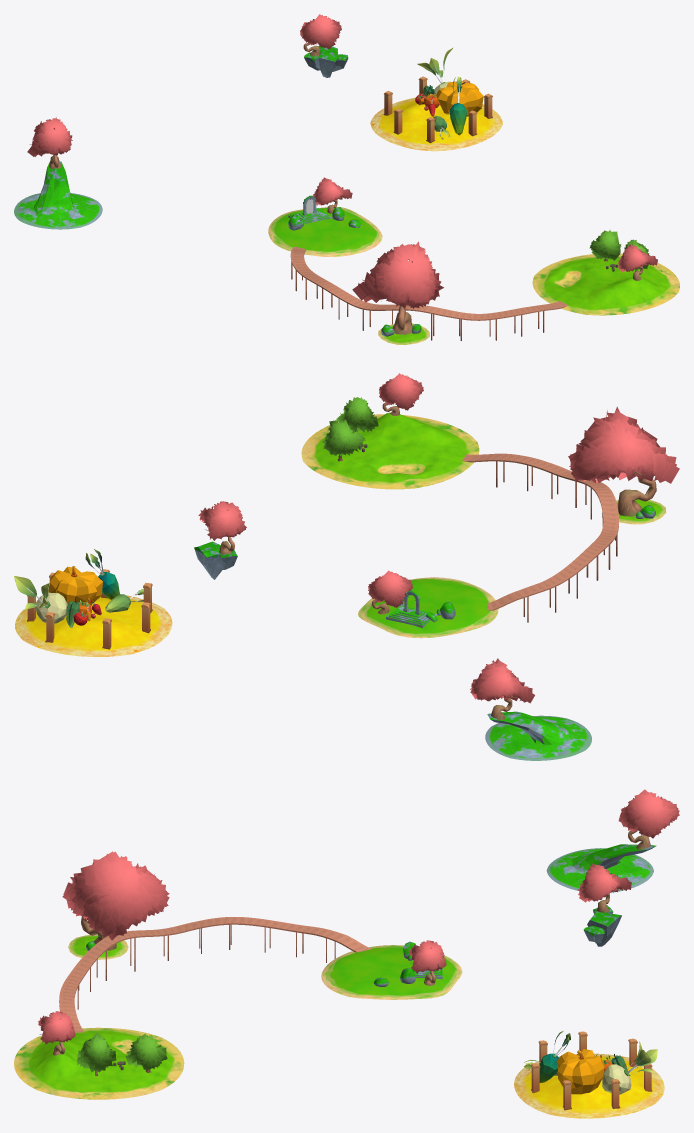
Rendered from game.glb.
3 views of the same model, one above another, from view 1: azimuth 30°, elevation 25°; view 2: azimuth 150°, elevation 25°; view 3: azimuth 270°, elevation 25° (orthographic). The views are drawn at different scales.
Visible parts, largest first — view 1: 小岛2_g, 树叶1_pink_001, 黄萝卜, 小岛3, 小岛_g, 小岛4, 木桥_g, 树叶1_pink_2.001, 树叶1_pink_2, 石头_g, 浮空石, 木桥立柱 (+4 smaller); view 2: 小岛2_g, 黄萝卜, 树叶1_pink_001, 小岛3, 小岛_g, 小岛4, 木桥_g, 树叶1_pink_2.001, 树叶1_pink_2, 石头_g, 树叶1_pink, 树叶1_pink_1 (+5 smaller); view 3: 小岛2_g, 树叶1_pink_001, 黄萝卜, 小岛_g, 小岛3, 木桥_g, 小岛4, 树叶1_pink_2.001, 树叶1_pink_2, 树叶3_green, 树叶2_green, 树叶1_pink_1 (+5 smaller).
Boxes of the visible parts, box(x1,y1,x2,y2) form: 小岛2_g: box(532, 253, 679, 315); 树叶1_pink_001: box(352, 241, 443, 309); 黄萝卜: box(383, 47, 492, 143); 小岛3: box(370, 97, 502, 151); 小岛_g: box(268, 207, 382, 256); 小岛4: box(14, 161, 102, 229); 木桥_g: box(290, 246, 567, 320); 树叶1_pink_2.001: box(27, 117, 72, 156); 树叶1_pink_2: box(300, 14, 341, 49); 石头_g: box(288, 195, 360, 230); 浮空石: box(304, 45, 348, 77); 木桥立柱: box(291, 261, 544, 340); 小岛2_g: box(301, 412, 479, 489); 黄萝卜: box(14, 549, 152, 649); 树叶1_pink_001: box(568, 406, 679, 483); 小岛3: box(15, 595, 172, 656); 小岛_g: box(358, 577, 498, 638); 小岛4: box(485, 711, 591, 760); 木桥_g: box(461, 453, 618, 610); 树叶1_pink_2.001: box(470, 658, 534, 703); 树叶1_pink_2: box(198, 501, 246, 540); 石头_g: box(386, 590, 455, 627); 树叶1_pink: box(379, 373, 423, 410); 树叶1_pink_1: box(368, 570, 412, 607); 小岛2_g: box(14, 1027, 184, 1099); 树叶1_pink_001: box(62, 851, 169, 940); 黄萝卜: box(523, 1031, 657, 1110); 小岛_g: box(321, 945, 462, 999); 小岛3: box(514, 1053, 664, 1118); 木桥_g: box(59, 917, 371, 1032); 小岛4: box(546, 844, 656, 892); 树叶1_pink_2.001: box(618, 789, 679, 838); 树叶1_pink_2: box(577, 863, 631, 902); 树叶3_green: box(77, 1032, 116, 1072); 树叶2_green: box(125, 1033, 167, 1070); 树叶1_pink_1: box(408, 940, 446, 973).
Bounding box in the file's own units: 284 × 87.15 × 296.
8 materials, 6 textured.
